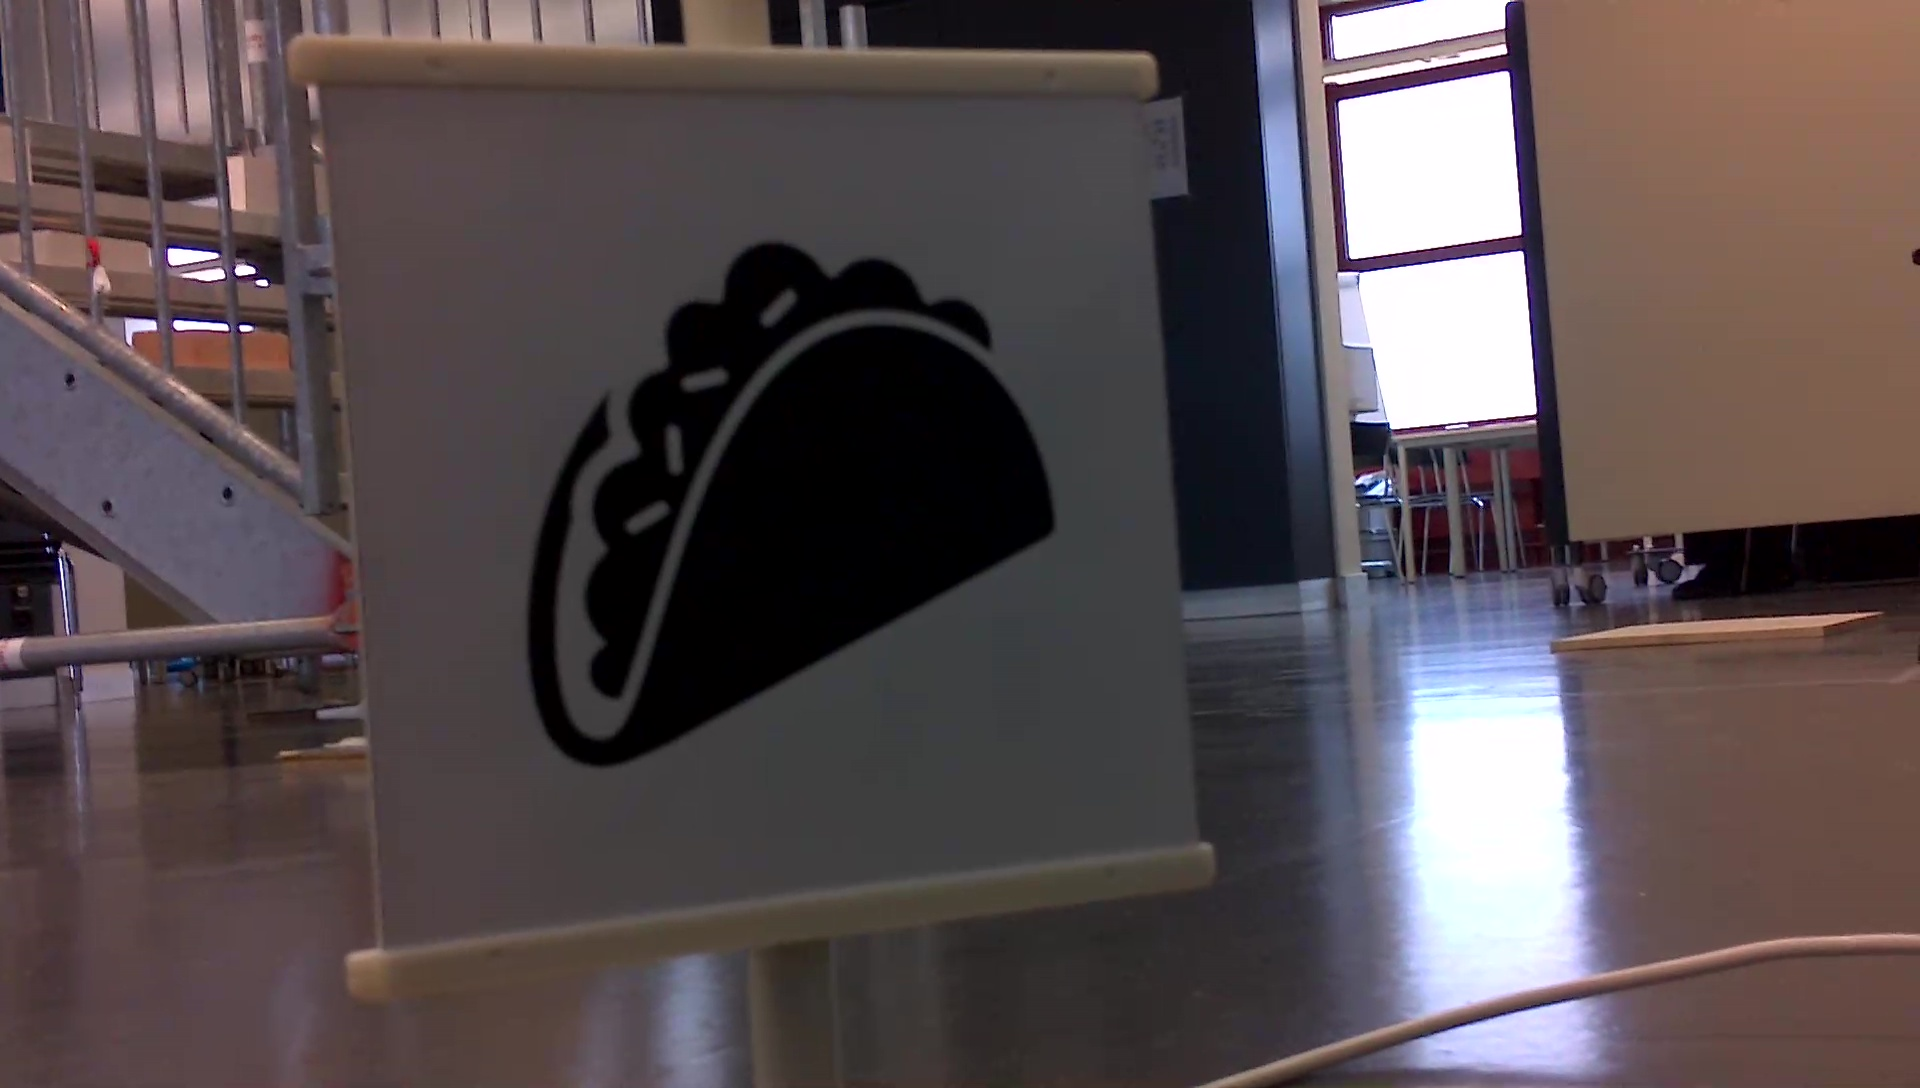taco: (512, 226, 1073, 775)
